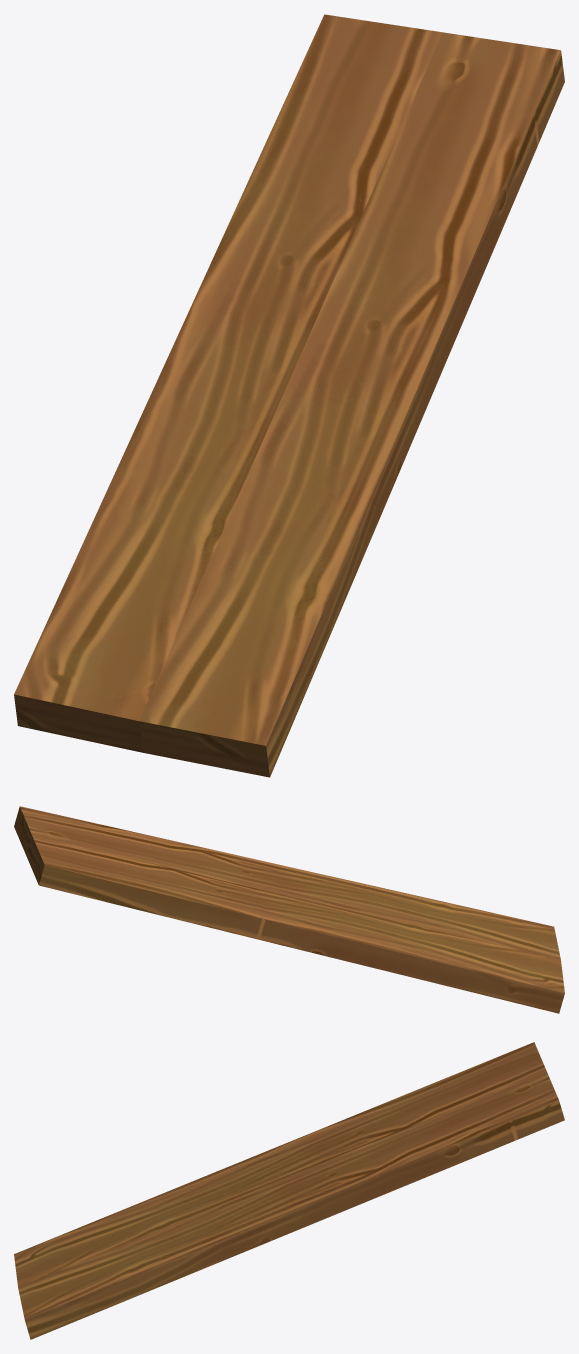
3 views of the same model, one above another, from view 1: azimuth 30°, elevation 25°; view 2: azimuth 150°, elevation 25°; view 3: azimuth 330°, elevation 25° (orthographic). The views are drawn at different scales.
Visible parts, largest first — view 1: Cube.660; view 2: Cube.660; view 3: Cube.660.
Boxes of the visible parts, x1,y1,x2,y2 form: Cube.660: (14,14,564,777); Cube.660: (14,806,564,1013); Cube.660: (14,1042,564,1339).
Bounding box in the file's own units: 286 × 121 × 277.
Materials: 1 (1 with a texture image).
